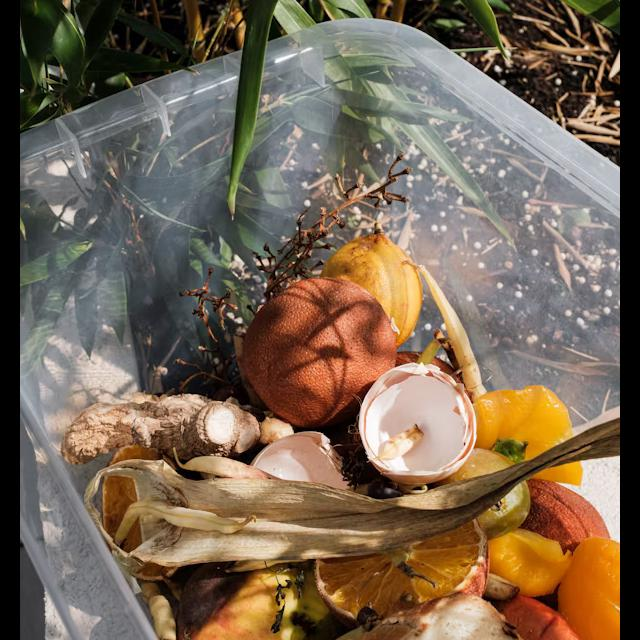food_waste: (80, 435, 555, 544), (327, 475, 511, 620), (242, 257, 395, 392), (348, 335, 476, 487), (462, 347, 581, 504), (73, 374, 284, 461), (493, 528, 620, 640), (504, 0, 618, 105)
